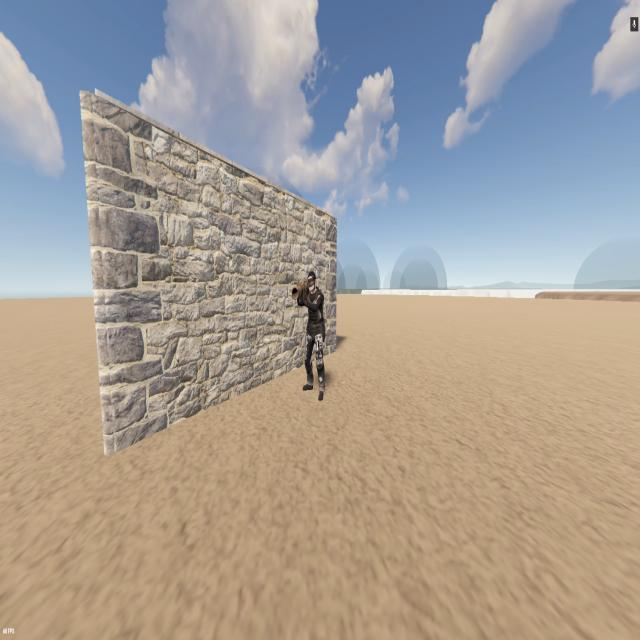Player: (298, 266, 328, 406)
